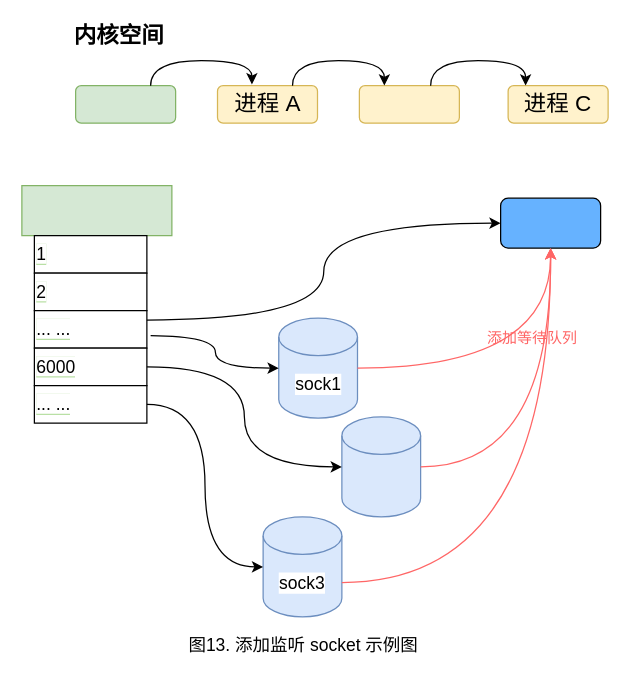
This 630x685 diagram has some shape labels left out. The shapes that lost their labels are listed below. From the top down, each one's centre as x and y in pixels, then its label:
the point at 125,103: 工作队列
the point at 408,103: 进程 B
the point at 96,210: 文件列表(fd)
the point at 550,222: eventpoll
the point at 381,466: sock2
